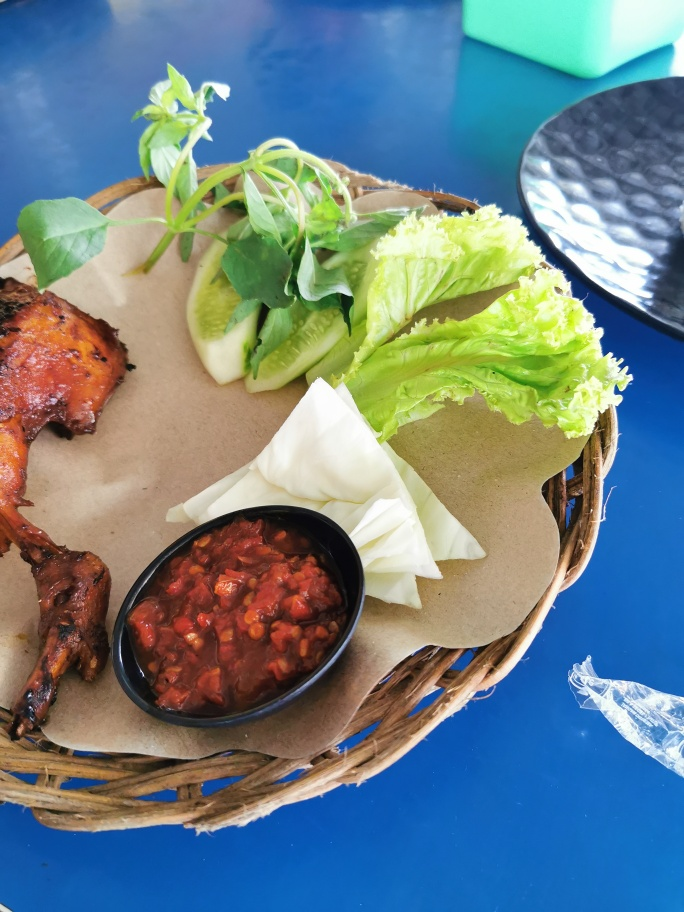ayam bakar: (1, 279, 119, 746)
